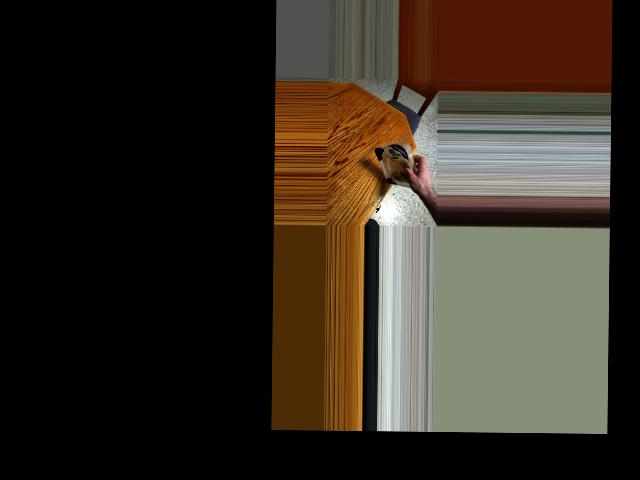cheese: (377, 143, 413, 192)
